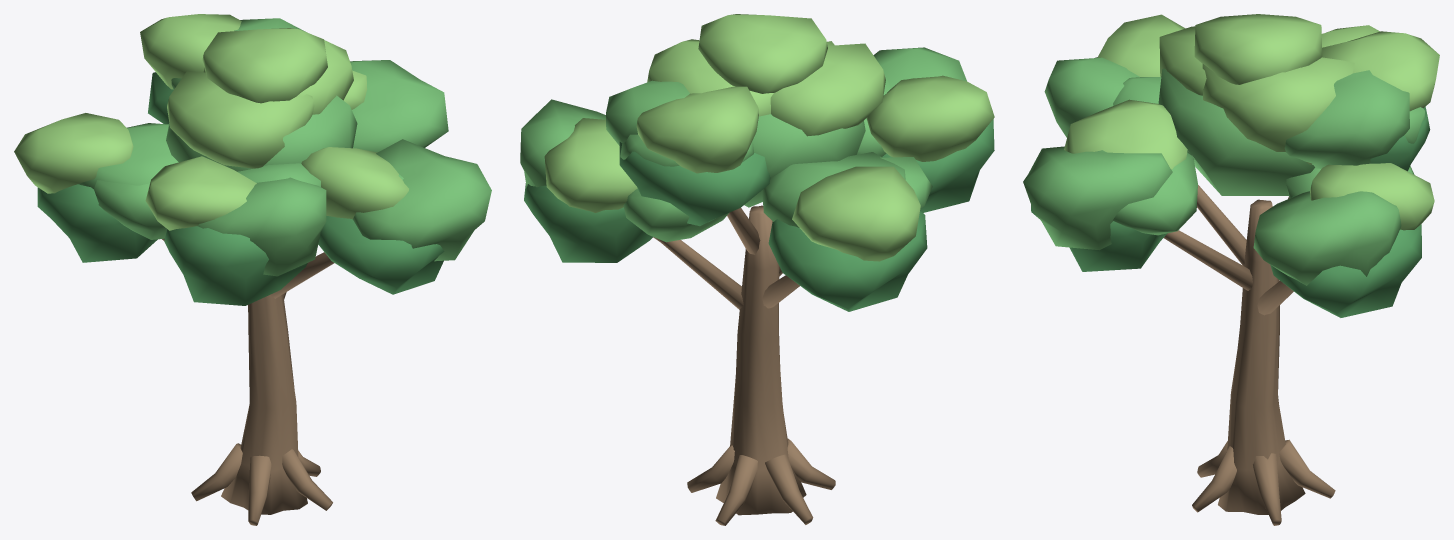
File: street_tree.glb
3 views of the same model, side by side, from view 1: azimuth 30°, elevation 25°; view 2: azimuth 150°, elevation 25°; view 3: azimuth 270°, elevation 25° (orthographic). The views are drawn at different scales.
Parts seen in each view (by area): view 1: LeafClump_9, TreeTrunk, LeafClump_22, LeafClump_23, LeafClump_13, LeafClump_12, LeafClump_1, LeafClump_6, LeafClump_14, LeafClump_8, LeafClump_10, LeafClump_4 (+13 smaller); view 2: TreeTrunk, LeafClump_6, LeafClump_14, LeafClump_23, LeafClump_18, LeafClump_4, LeafClump_22, LeafClump_16, LeafClump_2, LeafClump_0, LeafClump_20, LeafClump_12 (+16 smaller); view 3: TreeTrunk, LeafClump_9, LeafClump_1, LeafClump_20, LeafClump_17, LeafClump_21, LeafClump_23, LeafClump_0, LeafClump_10, LeafClump_18, LeafClump_2, LeafClump_13 (+14 smaller).
Part boxes in pixels (left/top/right/bottom): LeafClump_9: left=352, top=139, right=491, bottom=261; TreeTrunk: left=221, top=294, right=307, bottom=514; LeafClump_22: left=167, top=71, right=314, bottom=168; LeafClump_23: left=202, top=28, right=327, bottom=103; LeafClump_13: left=197, top=177, right=326, bottom=276; LeafClump_12: left=164, top=226, right=319, bottom=305; LeafClump_1: left=350, top=60, right=448, bottom=152; LeafClump_6: left=14, top=113, right=133, bottom=193; LeafClump_14: left=145, top=156, right=256, bottom=230; LeafClump_8: left=318, top=216, right=444, bottom=294; LeafClump_10: left=301, top=147, right=408, bottom=219; LeafClump_4: left=37, top=184, right=157, bottom=262; TreeTrunk: left=716, top=205, right=806, bottom=515; LeafClump_6: left=792, top=166, right=920, bottom=261; LeafClump_14: left=866, top=75, right=994, bottom=161; LeafClump_23: left=698, top=14, right=827, bottom=93; LeafClump_18: left=636, top=86, right=758, bottom=173; LeafClump_4: left=768, top=211, right=927, bottom=311; LeafClump_22: left=770, top=43, right=885, bottom=136; LeafClump_16: left=619, top=142, right=770, bottom=226; LeafClump_2: left=544, top=118, right=637, bottom=212; LeafClump_0: left=524, top=183, right=652, bottom=262; LeafClump_20: left=744, top=114, right=865, bottom=207; LeafClump_12: left=882, top=119, right=994, bottom=212; TreeTrunk: left=1218, top=199, right=1305, bottom=514; LeafClump_9: left=1023, top=146, right=1172, bottom=250; LeafClump_1: left=1253, top=191, right=1401, bottom=285; LeafClump_20: left=1158, top=68, right=1314, bottom=195; LeafClump_17: left=1284, top=70, right=1409, bottom=168; LeafClump_21: left=1202, top=57, right=1354, bottom=164; LeafClump_23: left=1194, top=14, right=1322, bottom=84; LeafClump_0: left=1270, top=196, right=1421, bottom=317; LeafClump_10: left=1064, top=99, right=1187, bottom=169; LeafClump_18: left=1322, top=31, right=1439, bottom=111; LeafClump_2: left=1310, top=163, right=1434, bottom=230; LeafClump_13: left=1044, top=57, right=1139, bottom=137.
Size of the model in its own units: 4.92 by 5.5 by 4.35.
